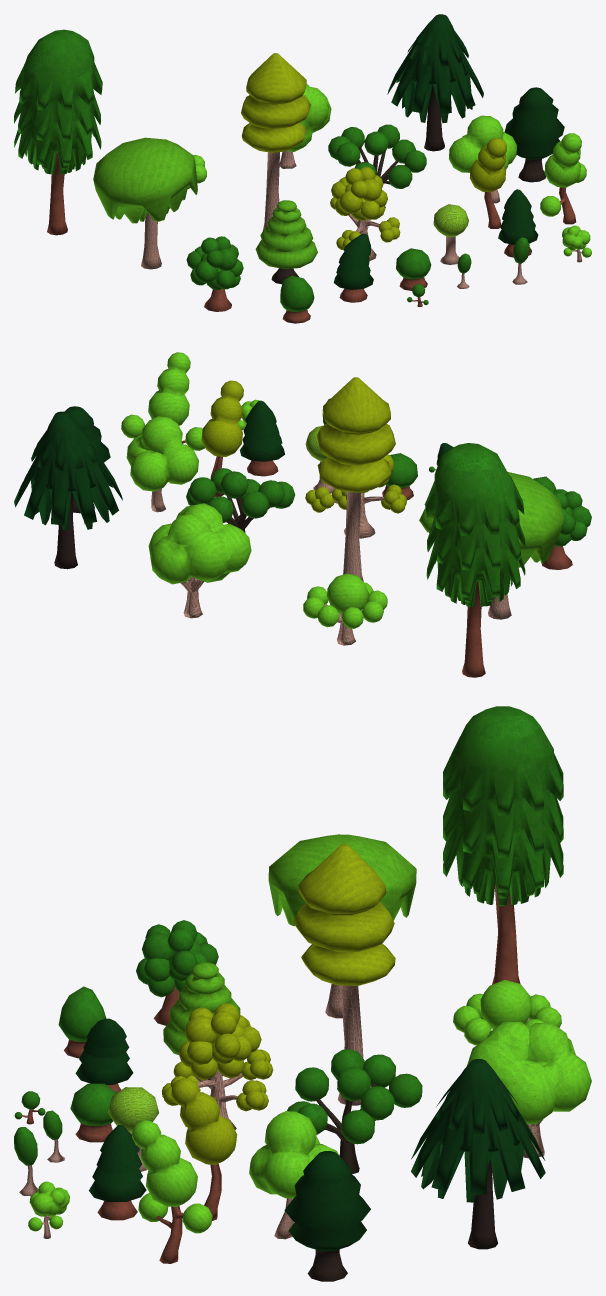
Rendered from cartoon-trees.glb.
The picture shows the model from 3 angles, top to bottom: view 1: azimuth 30°, elevation 25°; view 2: azimuth 150°, elevation 25°; view 3: azimuth 270°, elevation 25°; orthographic projection. The views are drawn at different scales.
Visible parts, largest first — view 1: Fantasy Tree 23, Fantasy Tree 19, Fantasy Tree 21, Fantasy Tree 22, Fantasy Tree 13, Fantasy Tree 15, Fantasy Tree 18, Fantasy Tree 16, Fantasy Tree 17, Fantasy Tree 6, Fantasy Tree 5, Fantasy Tree 3 (+8 smaller); view 2: Fantasy Tree 23, Fantasy Tree 21, Fantasy Tree 22, Fantasy Tree 20, Fantasy Tree 5, Fantasy Tree 13, Fantasy Tree 8, Fantasy Tree 19, Fantasy Tree 6, Fantasy Tree 7, Fantasy Tree 4, Fantasy Tree 18 (+4 smaller); view 3: Fantasy Tree 23, Fantasy Tree 21, Fantasy Tree 22, Fantasy Tree 20, Fantasy Tree 13, Fantasy Tree 18, Fantasy Tree 15, Fantasy Tree 19, Fantasy Tree 6, Fantasy Tree 5, Fantasy Tree 17, Fantasy Tree 7 (+9 smaller).
Boxes of the visible parts, bbox=[...] form: Fantasy Tree 23: bbox=[14, 29, 102, 235]; Fantasy Tree 19: bbox=[93, 137, 197, 269]; Fantasy Tree 21: bbox=[387, 14, 483, 151]; Fantasy Tree 22: bbox=[241, 53, 310, 230]; Fantasy Tree 13: bbox=[328, 124, 426, 208]; Fantasy Tree 15: bbox=[504, 87, 564, 182]; Fantasy Tree 18: bbox=[330, 167, 400, 261]; Fantasy Tree 16: bbox=[255, 200, 317, 284]; Fantasy Tree 17: bbox=[186, 236, 243, 311]; Fantasy Tree 6: bbox=[540, 133, 586, 224]; Fantasy Tree 5: bbox=[449, 115, 517, 203]; Fantasy Tree 3: bbox=[333, 233, 373, 302]; Fantasy Tree 23: bbox=[425, 443, 525, 677]; Fantasy Tree 21: bbox=[14, 411, 122, 569]; Fantasy Tree 22: bbox=[316, 377, 395, 581]; Fantasy Tree 20: bbox=[148, 503, 251, 618]; Fantasy Tree 5: bbox=[126, 416, 198, 512]; Fantasy Tree 13: bbox=[186, 468, 295, 532]; Fantasy Tree 8: bbox=[303, 573, 387, 645]; Fantasy Tree 19: bbox=[488, 472, 563, 619]; Fantasy Tree 6: bbox=[121, 352, 204, 450]; Fantasy Tree 7: bbox=[201, 380, 243, 496]; Fantasy Tree 4: bbox=[240, 400, 284, 476]; Fantasy Tree 18: bbox=[305, 454, 406, 538]; Fantasy Tree 23: bbox=[443, 706, 563, 984]; Fantasy Tree 21: bbox=[411, 1059, 545, 1249]; Fantasy Tree 22: bbox=[293, 844, 395, 1105]; Fantasy Tree 20: bbox=[467, 1022, 591, 1158]; Fantasy Tree 13: bbox=[287, 1049, 422, 1174]; Fantasy Tree 18: bbox=[161, 1003, 273, 1129]; Fantasy Tree 15: bbox=[284, 1151, 370, 1281]; Fantasy Tree 19: bbox=[268, 834, 416, 1018]; Fantasy Tree 6: bbox=[132, 1120, 212, 1263]; Fantasy Tree 5: bbox=[249, 1111, 338, 1239]; Fantasy Tree 17: bbox=[136, 920, 218, 1025]; Fantasy Tree 7: bbox=[171, 1078, 237, 1220].
Size of the model in its own units: 113 by 44.09 by 83.32.
Materials: 9 (9 with a texture image).
